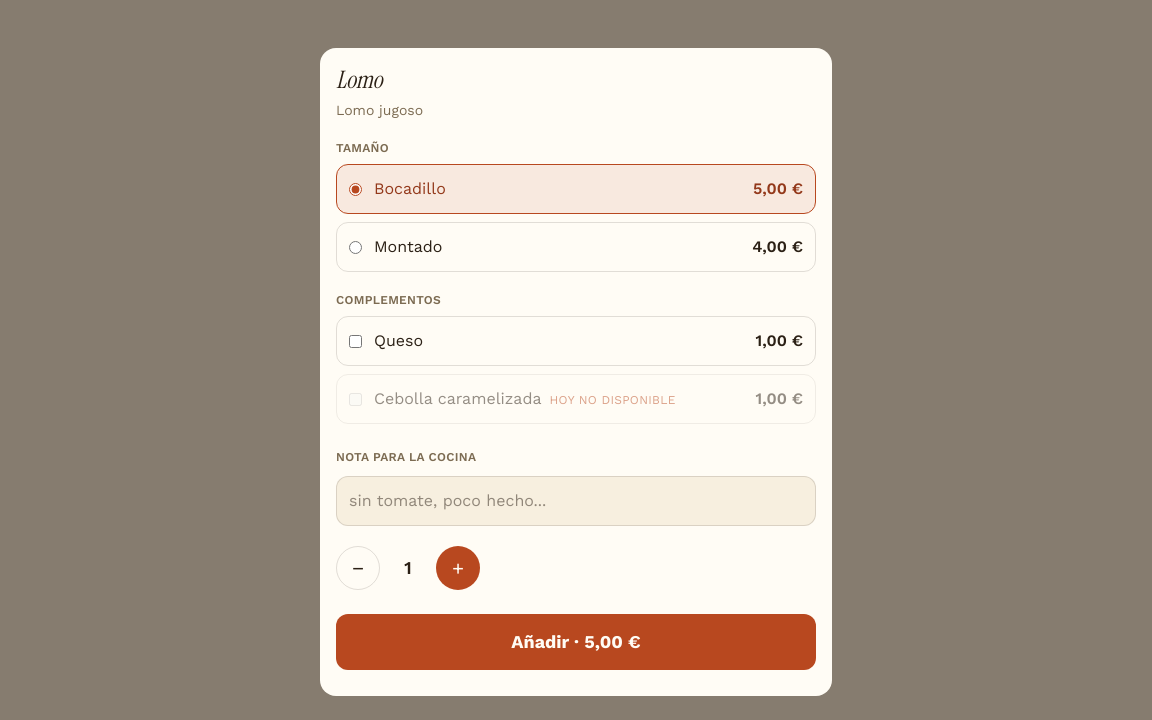
Test: FichaArticulo › suma los extras marcados al total
Click the checkbox labelled "Queso 1,00 €" at (356, 341), box [349,334,362,348]
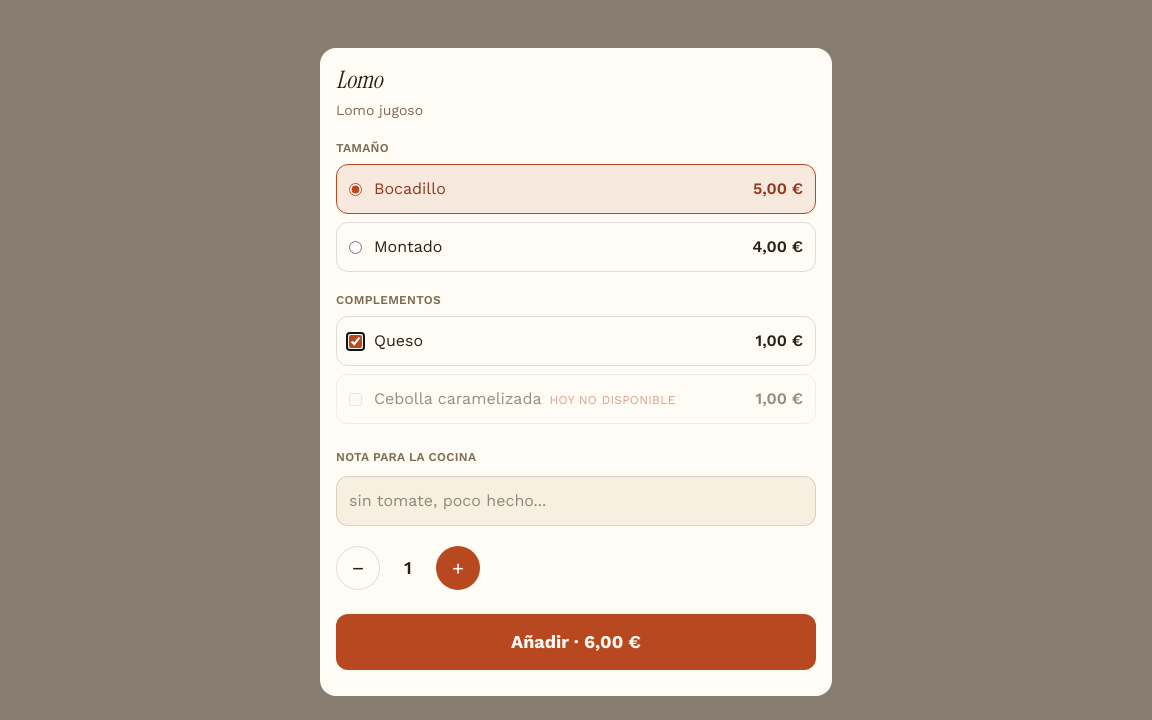
Expected: the button "Añadir · 6,00 €" is shown, [336,614,816,670]
